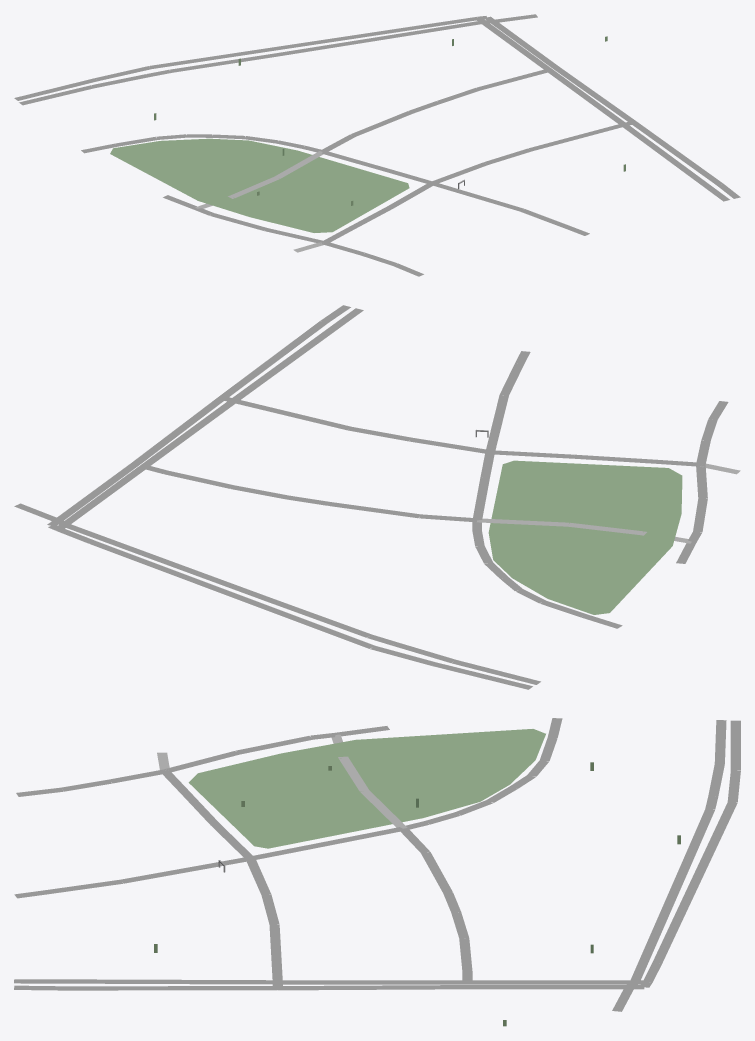
3 views of the same model, one above another, from view 1: azimuth 30°, elevation 25°; view 2: azimuth 150°, elevation 25°; view 3: azimuth 270°, elevation 25° (orthographic). The views are drawn at different scales.
Bounding box in the file's own units: 509 × 9.17 × 500.
